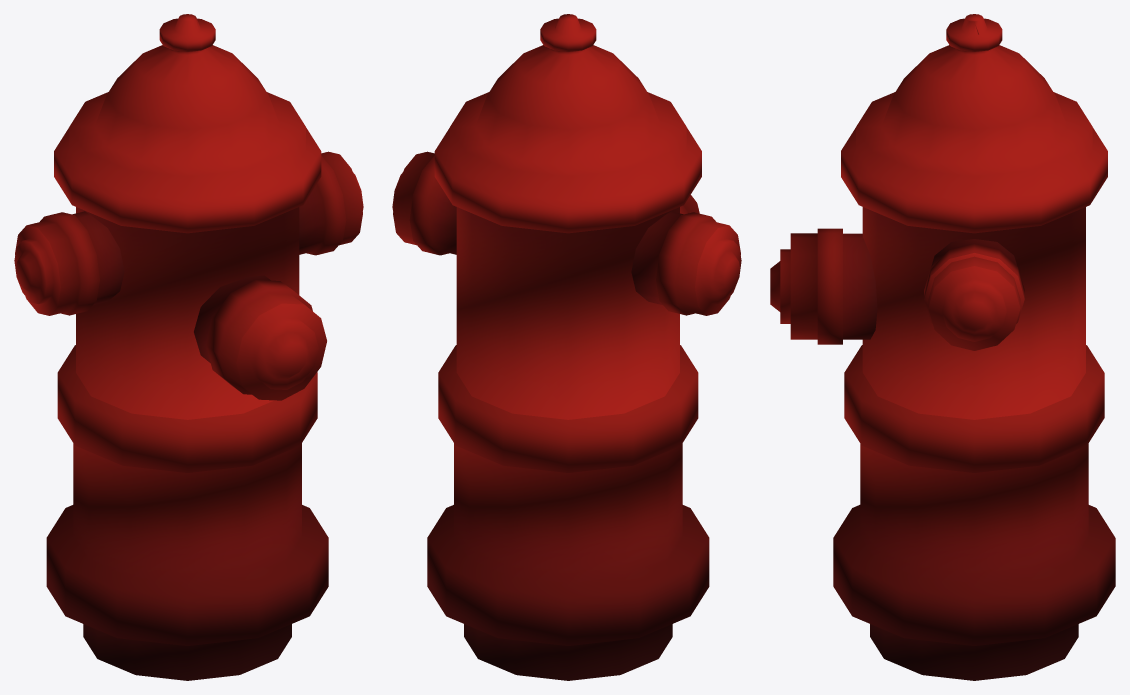
Rendered from Hydrant.fbx.
3 renders of one model, left to right at view 1: azimuth 30°, elevation 25°; view 2: azimuth 150°, elevation 25°; view 3: azimuth 270°, elevation 25°, orthographic.
Parts seen in each view (by area): view 1: Hydrant; view 2: Hydrant; view 3: Hydrant.
Boxes of the visible parts, x1,y1,x2,y2 form: Hydrant: [14, 14, 363, 680]; Hydrant: [392, 14, 741, 680]; Hydrant: [770, 14, 1115, 680].
Size of the model in its own units: 37.99 by 67.98 by 34.33.
Materials: 1 (1 with a texture image).
